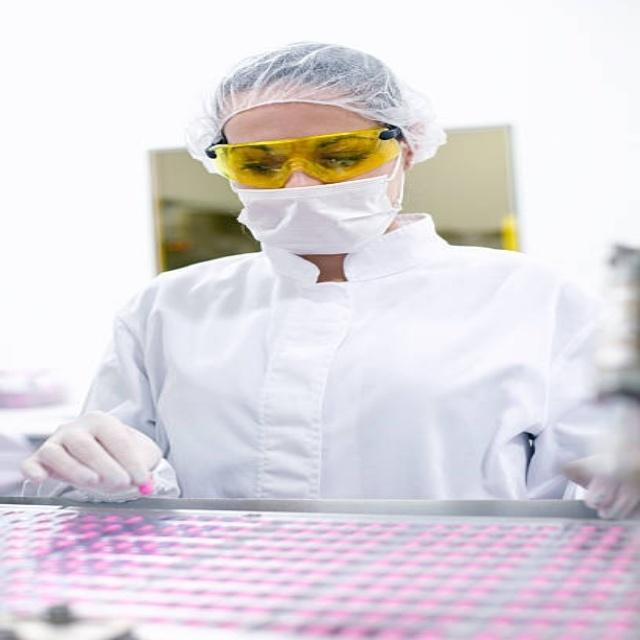Gafas: (204, 125, 406, 189)
Guantes: (22, 409, 168, 499), (562, 447, 637, 521)
Mascara: (227, 152, 411, 268)
